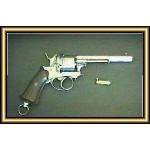Pistol: (18, 52, 134, 106)
